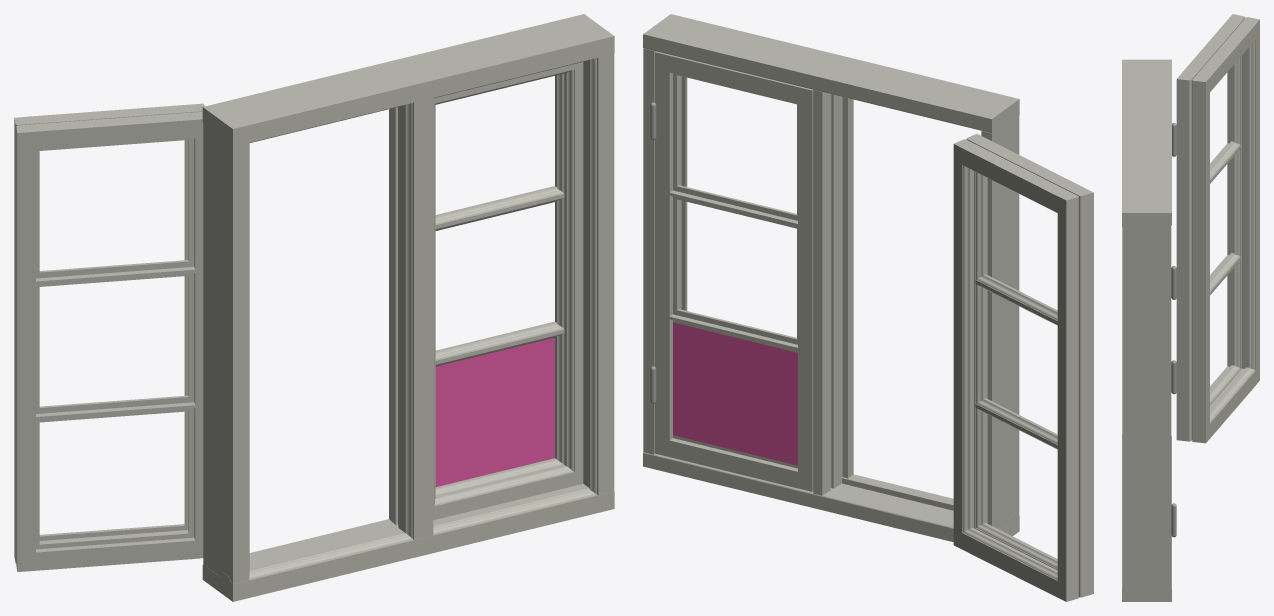
The model's file is fonsteranim.glb.
3 views of the same model, side by side, from view 1: azimuth 30°, elevation 25°; view 2: azimuth 150°, elevation 25°; view 3: azimuth 270°, elevation 25° (orthographic). The views are drawn at different scales.
Visible parts, largest first — view 1: Karmsidostycke, Plane.036, Mittpost, Plane.044, Glas, Plane.038, Karmsidostycke.001, Plane.045, Plane.037, Plane.042, Plane.047, Bågsidostycke.002 (+4 smaller); view 2: Plane.036, Plane.045, Mittpost, Plane.044, Glas, Karmsidostycke, Plane.038, Karmsidostycke.001, Plane.037, Plane.042, Plane.047, Plane.046 (+4 smaller); view 3: Plane.036, Karmsidostycke.001, Plane.044, Plane.037, Plane.042, Plane.038, Bågsidostycke.001, Bågsidostycke.002.
Part boxes in pixels (x1,y1,x2,y2): Karmsidostycke: (203,123,249,584); Plane.036: (14,103,204,571); Mittpost: (389,98,433,539); Plane.044: (202,14,614,147); Glas: (435,337,554,486); Plane.038: (202,484,614,601); Karmsidostycke.001: (583,54,614,495); Plane.045: (433,62,583,520); Plane.037: (29,104,195,150); Plane.042: (35,524,195,570); Plane.047: (434,458,574,519); Bågsidostycke.002: (35,395,195,422); Plane.036: (953,134,1093,601); Plane.045: (654,51,813,491); Mittpost: (813,90,853,495); Plane.044: (643,14,1019,133); Glas: (673,322,797,465); Karmsidostycke: (981,115,1019,530); Plane.038: (643,452,1019,541); Karmsidostycke.001: (643,48,655,454); Plane.037: (962,139,1082,212); Plane.042: (962,523,1057,597); Plane.047: (669,436,797,488); Plane.046: (669,55,798,104); Plane.036: (1176,14,1259,443); Karmsidostycke.001: (1122,226,1171,589); Plane.044: (1122,59,1171,226); Plane.037: (1182,20,1255,91); Plane.042: (1210,365,1255,438); Plane.038: (1122,434,1171,601); Bågsidostycke.001: (1210,141,1240,183); Bågsidostycke.002: (1210,253,1240,295).
Size of the model in its own units: 1.51 by 1.28 by 0.4121.
